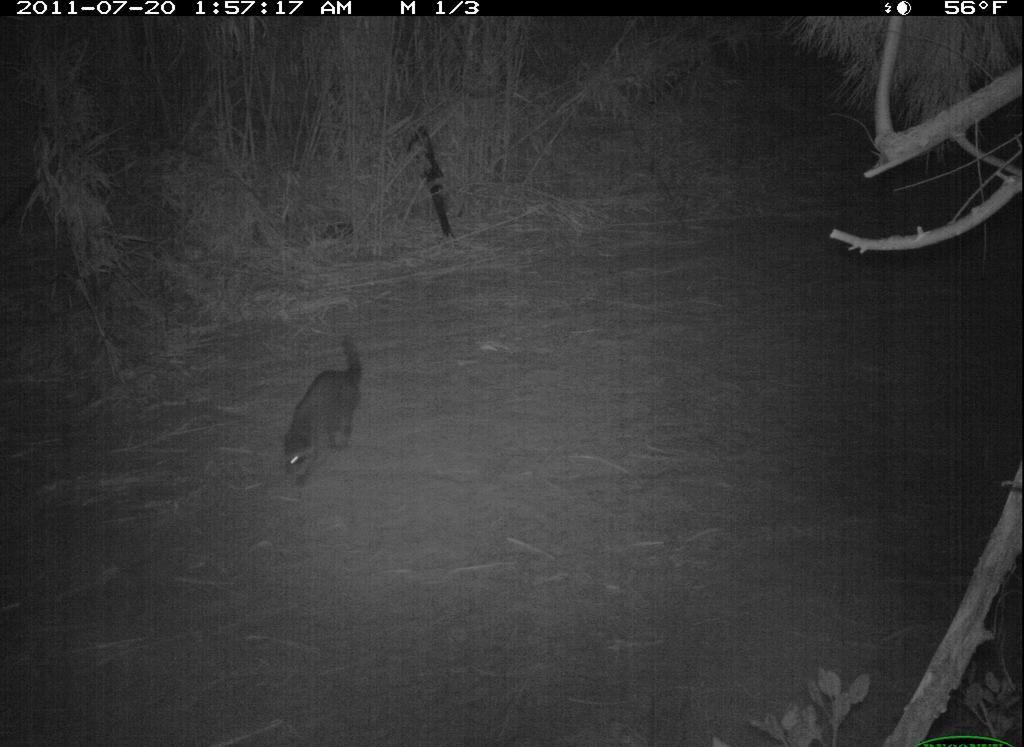raccoon: (285, 353, 369, 504)
